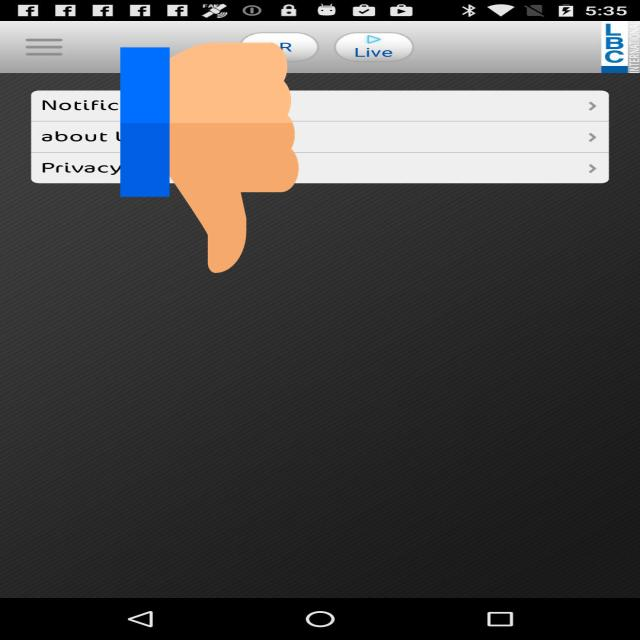obstruction: (120, 37, 299, 279)
